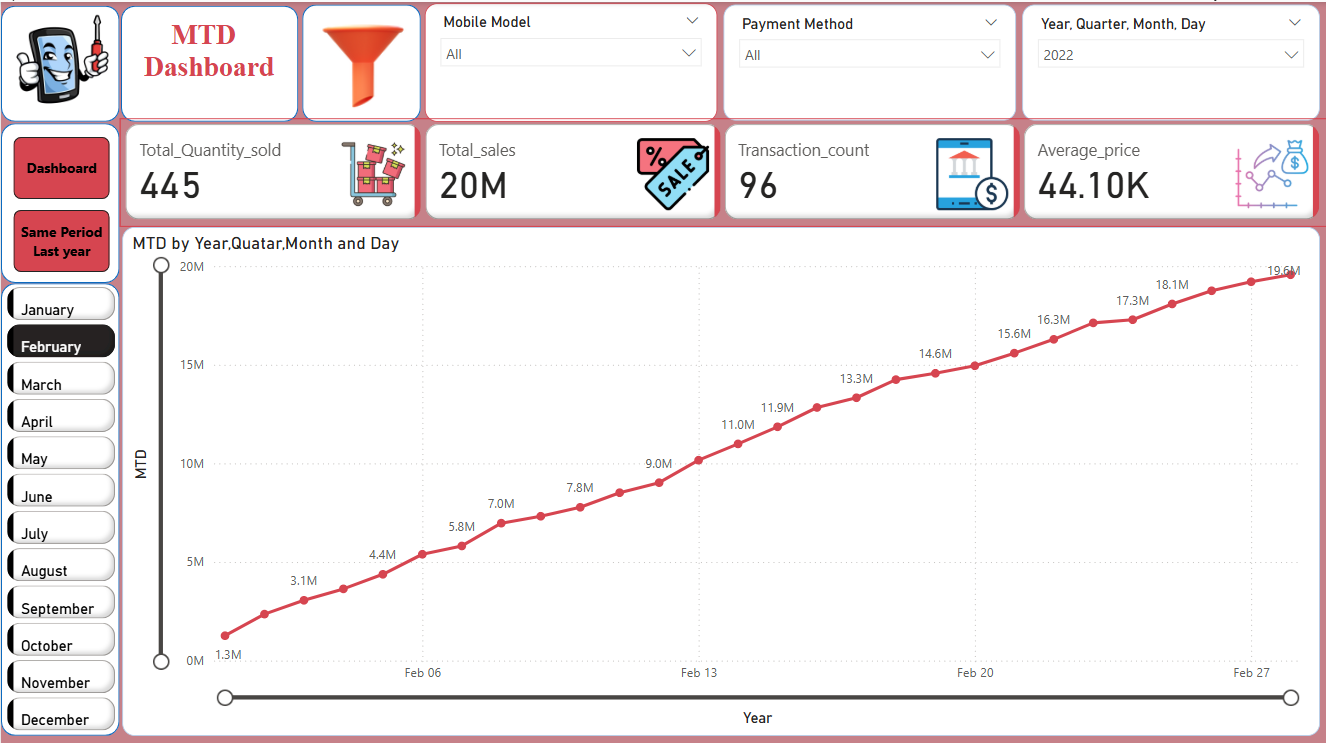

What the dashboard file says about the page in this screenshot:
{"tool":"powerbi","page":{"name":"MTD Dashboard","canvas":[1280,720],"ordinal":1},"visuals":[{"type":"shape","box":[0,3.6,114.6,112.2],"z":0},{"type":"image","box":[2.4,0,114.6,112.2],"z":1000},{"type":"shape","box":[0,117,114.6,154.4],"z":2000},{"type":"cardVisual","fields":{"Data":["Mobile_sales_data.Total_Quantity_sold","Mobile_sales_data.Total_sales","Mobile_sales_data.Transaction_count","Mobile_sales_data.Average_price"]},"box":[114.6,112.2,1165.4,105],"z":3000},{"type":"slicer","fields":{"Values":["Mobile_sales_data.Mobile Model"]},"box":[409,1.2,282.3,114.6],"z":4000},{"type":"slicer","fields":{"Values":["Mobile_sales_data.Payment Method"]},"box":[697.3,2.4,282.3,112.2],"z":5000},{"type":"slicer","fields":{"Values":["Custom_Calendar.Date.Variation.Date Hierarchy.Year","Custom_Calendar.Date.Variation.Date Hierarchy.Quarter","Custom_Calendar.Date.Variation.Date Hierarchy.Month","Custom_Calendar.Date.Variation.Date Hierarchy.Day"]},"box":[985.7,2.4,287.1,112.2],"z":6000},{"type":"shape","box":[290.8,2.4,114.6,113.4],"z":7000},{"type":"image","box":[224.4,6,249.7,109.8],"z":8000},{"type":"shape","box":[115.8,3.6,171.3,112.2],"z":9000},{"type":"textbox","box":[132.7,12.1,146,100.1],"z":10000},{"type":"lineChart","title":"MTD by Year,Quatar,Month and Day","fields":{"Y":["Mobile_sales_data.MTD"],"Category":["Custom_Calendar.Date.Variation.Date Hierarchy.Year","Custom_Calendar.Date.Variation.Date Hierarchy.Quarter","Custom_Calendar.Date.Variation.Date Hierarchy.Month","Custom_Calendar.Date.Variation.Date Hierarchy.Day"]},"box":[117,217.2,1155.8,491],"z":11000},{"type":"shape","box":[0,271.4,114.6,436.7],"z":12000},{"type":"advancedSlicerVisual","fields":{"Values":["Custom_Calendar.Date.Variation.Date Hierarchy.Month"]},"box":[1.2,270.2,114.6,442.8],"z":13000},{"type":"cardVisual","fields":{"Data":["Mobile_sales_data.Total_Quantity_sold","Mobile_sales_data.Total_sales","Mobile_sales_data.Transaction_count","Mobile_sales_data.Average_price"]},"box":[114.6,112.2,1165.4,105],"z":14000},{"type":"pageNavigator","box":[12.3,130.4,93.3,130.4],"z":15000}]}

Visuals, with their boxes in screenshot pixels (x1, y1, x2, y2), scaled from the page's 1280x720 canvas onto the 1326x743 screenshot:
shape: rect(0, 4, 119, 119)
image: rect(2, 0, 121, 116)
shape: rect(0, 121, 119, 280)
cardVisual - Mobile_sales_data.Total_Quantity_sold x Mobile_sales_data.Total_sales: rect(119, 116, 1325, 224)
slicer - Mobile_sales_data.Mobile Model: rect(424, 1, 716, 119)
slicer - Mobile_sales_data.Payment Method: rect(722, 2, 1015, 118)
slicer - Custom_Calendar.Date.Variation.Date Hierarchy.Year x Custom_Calendar.Date.Variation.Date Hierarchy.Quarter: rect(1021, 2, 1319, 118)
shape: rect(301, 2, 420, 119)
image: rect(232, 6, 491, 119)
shape: rect(120, 4, 297, 119)
textbox: rect(137, 12, 289, 116)
"MTD by Year,Quatar,Month and Day" lineChart: rect(121, 224, 1319, 731)
shape: rect(0, 280, 119, 731)
advancedSlicerVisual - Custom_Calendar.Date.Variation.Date Hierarchy.Month: rect(1, 279, 120, 736)
cardVisual - Mobile_sales_data.Total_Quantity_sold x Mobile_sales_data.Total_sales: rect(119, 116, 1325, 224)
pageNavigator: rect(13, 135, 109, 269)
